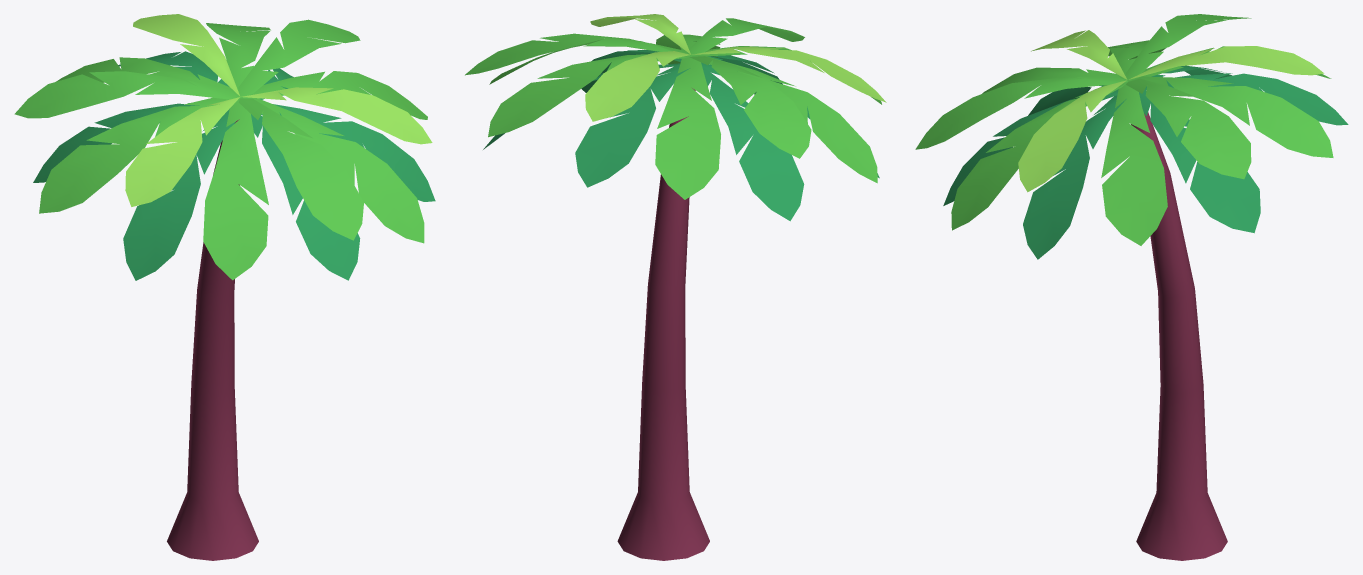
File: tree_palm.glb
3 renders of one model, left to right at view 1: azimuth 30°, elevation 25°; view 2: azimuth 150°, elevation 25°; view 3: azimuth 270°, elevation 25°, orthographic.
Parts seen in each view (by area): view 1: tree_palm; view 2: tree_palm; view 3: tree_palm.
Part boxes in pixels (x1,y1,x2,y2): tree_palm: [14, 14, 435, 560]; tree_palm: [465, 14, 886, 560]; tree_palm: [915, 14, 1348, 560].
Bounding box in the file's own units: 6.19 × 7.47 × 6.03.
Materials: 1 (1 with a texture image).
